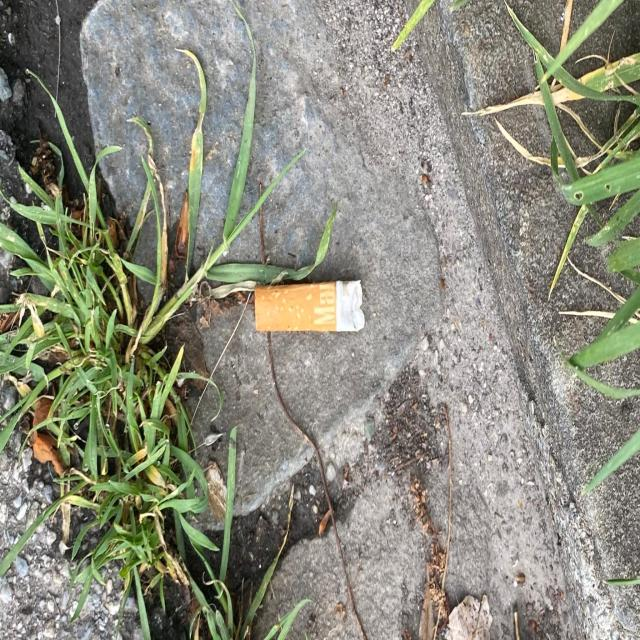other waste: (254, 278, 366, 334)
